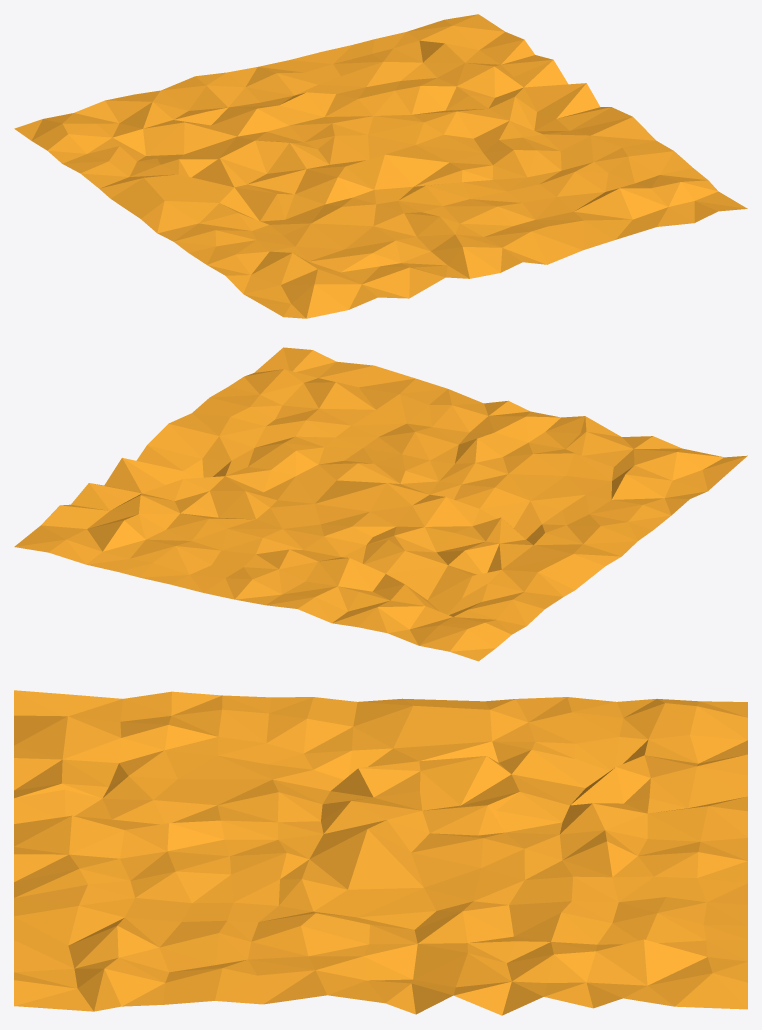
The model's file is SM_Planter_Box_Dirt_3x3m_Farm.fbx.
3 renders of one model, top to bottom at view 1: azimuth 30°, elevation 25°; view 2: azimuth 150°, elevation 25°; view 3: azimuth 270°, elevation 25°, orthographic. The views are drawn at different scales.
Parts seen in each view (by area): view 1: planter-box-dirt-3x3m-farm; view 2: planter-box-dirt-3x3m-farm; view 3: planter-box-dirt-3x3m-farm.
Boxes of the visible parts, box(x1,y1,x2,y2) form: planter-box-dirt-3x3m-farm: box(14, 14, 747, 318); planter-box-dirt-3x3m-farm: box(14, 347, 747, 661); planter-box-dirt-3x3m-farm: box(14, 690, 747, 1015).
Size of the model in its own units: 2.89 by 0.185 by 2.9.
